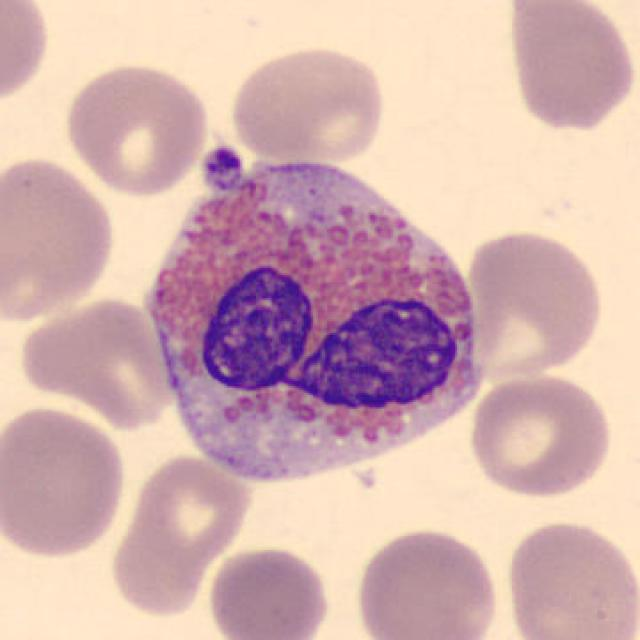Eosinophil: (134, 138, 492, 497)
Platelets: (187, 132, 249, 197)
RBC: (105, 450, 258, 620), (462, 226, 606, 381), (14, 294, 178, 430), (60, 58, 214, 198), (0, 152, 121, 324), (0, 402, 130, 562), (226, 41, 389, 164), (466, 370, 615, 501), (502, 0, 638, 136), (350, 523, 503, 640), (499, 516, 638, 640), (205, 543, 332, 640), (0, 0, 53, 111)
